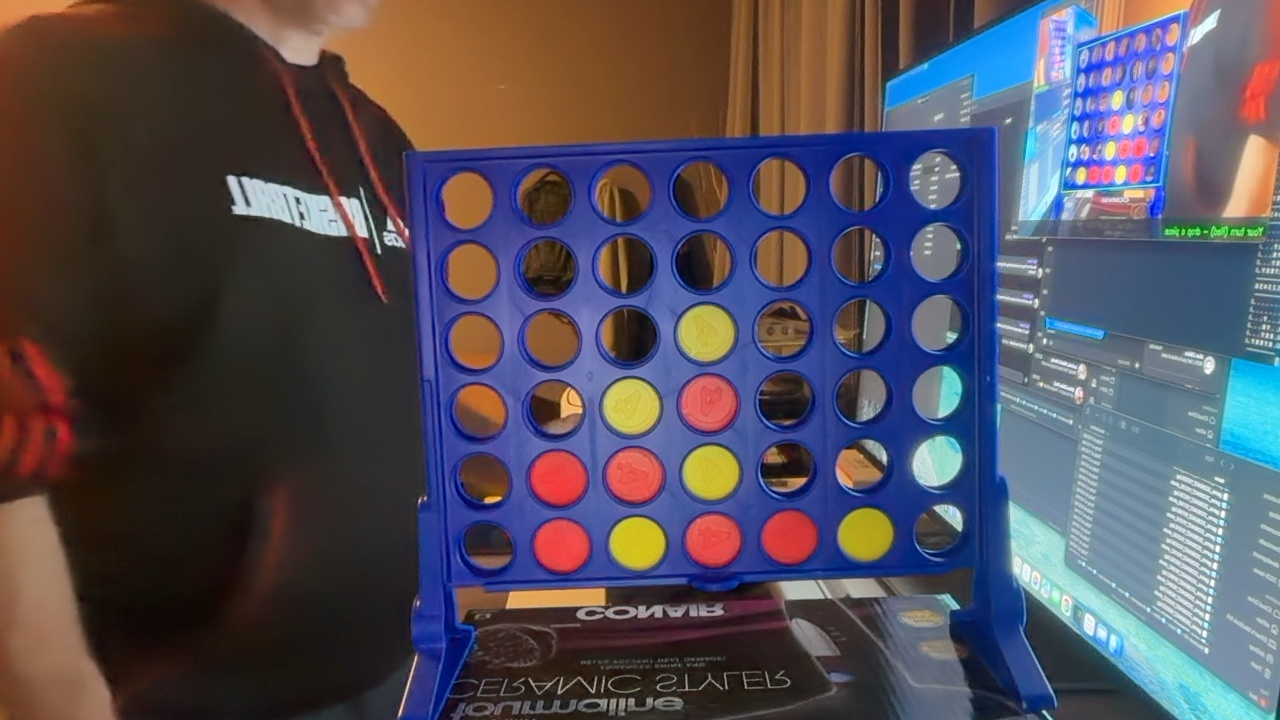red piece: (678, 374, 739, 433), (605, 447, 664, 504), (529, 450, 587, 507), (533, 518, 590, 574), (685, 513, 742, 568), (761, 510, 818, 565)
yellow piece: (601, 377, 661, 436), (676, 304, 736, 362), (681, 444, 741, 501), (608, 516, 666, 571), (837, 507, 894, 562)
